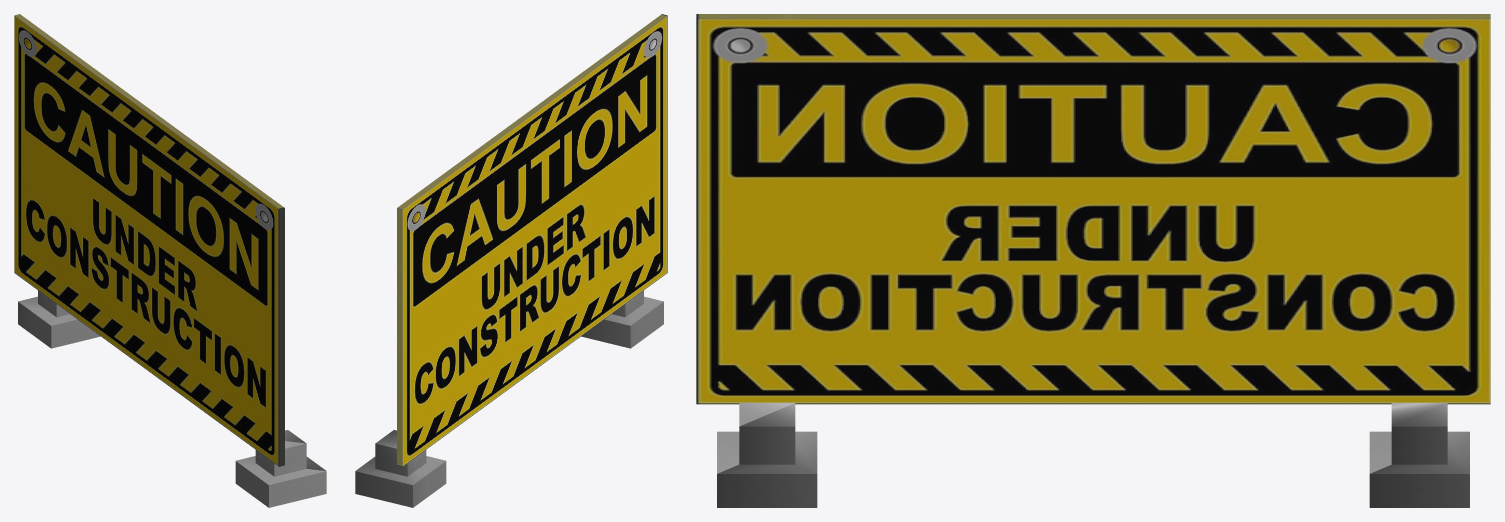
Rendered from signalroadclosed1.fbx.
3 renders of one model, left to right at view 1: azimuth 30°, elevation 25°; view 2: azimuth 150°, elevation 25°; view 3: azimuth 270°, elevation 25°, orthographic. The views are drawn at different scales.
Parts seen in each view (by area): view 1: signalroadclosed1; view 2: signalroadclosed1; view 3: signalroadclosed1.
Boxes of the visible parts, x1,y1,x2,y2 form: signalroadclosed1: (14,14,326,507); signalroadclosed1: (355,14,667,507); signalroadclosed1: (696,14,1490,507).
Bounding box in the file's own units: 40 × 200 × 317.
